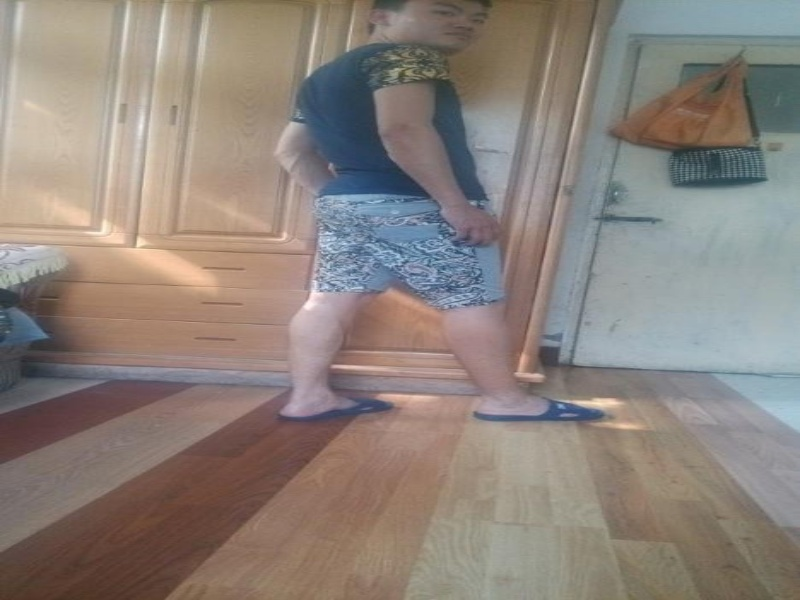short_sleeved_shirt: (282, 42, 496, 204)
shorts: (304, 182, 513, 310)
